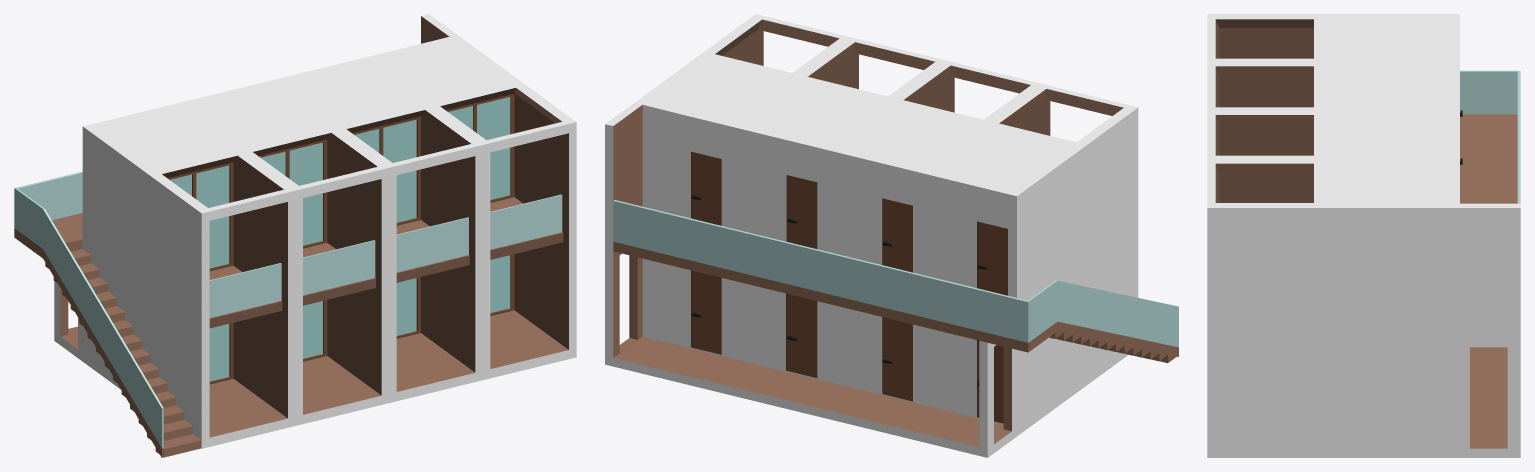
The model's file is Hotel_03.fbx.
The picture shows the model from 3 angles, left to right: view 1: azimuth 30°, elevation 25°; view 2: azimuth 150°, elevation 25°; view 3: azimuth 270°, elevation 25°; orthographic projection. The views are drawn at different scales.
Parts seen in each view (by area): view 1: Hotel_03; view 2: Hotel_03; view 3: Hotel_03.
Boxes of the visible parts, x1,y1,x2,y2 form: Hotel_03: [14, 14, 576, 457]; Hotel_03: [605, 14, 1178, 457]; Hotel_03: [1207, 14, 1520, 457].
Size of the model in its own units: 1106 by 601 by 682.
